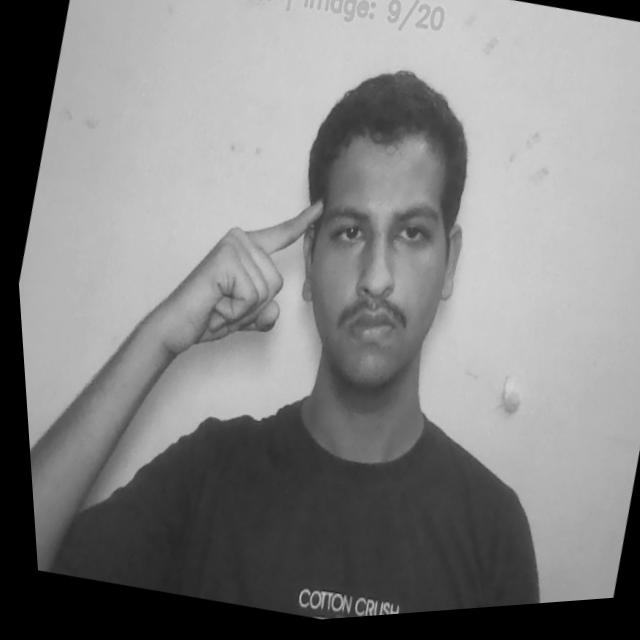Remember: (125, 165, 331, 390)
